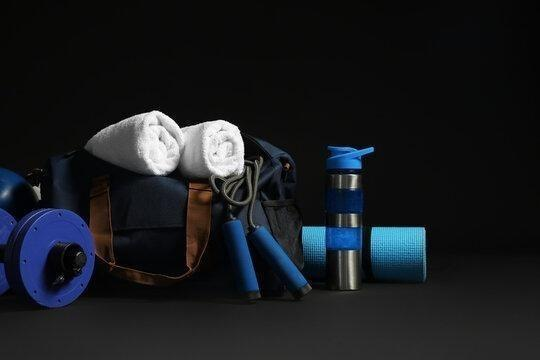gym bottle: (322, 143, 367, 291)
